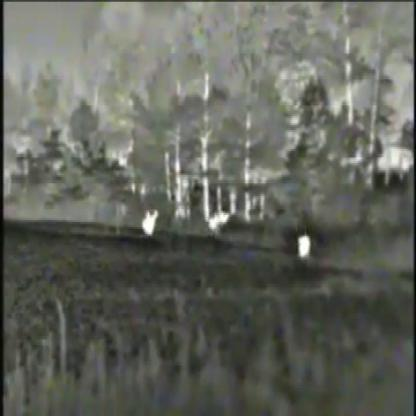rehkitze: (201, 209, 228, 231), (142, 209, 158, 241), (295, 233, 312, 263)
